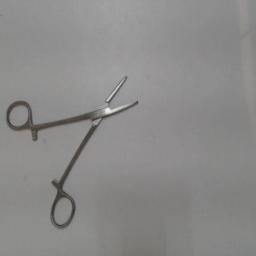Mayo Needle Holder: (3, 69, 145, 233)
